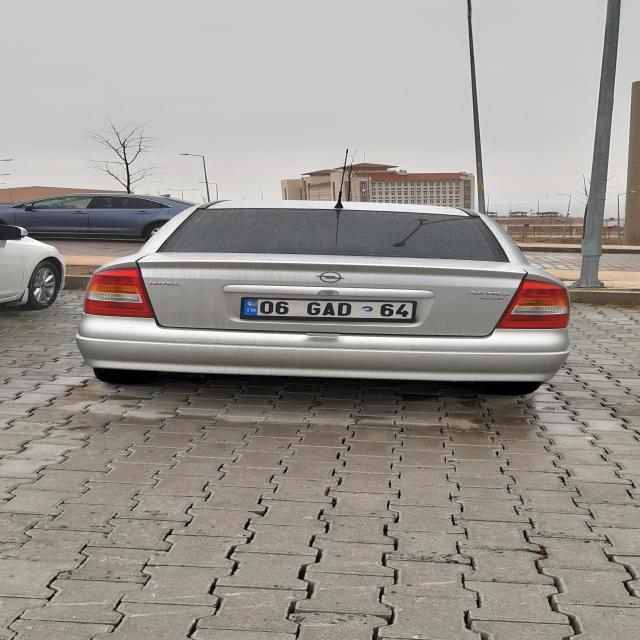plate: (241, 298, 414, 320)
